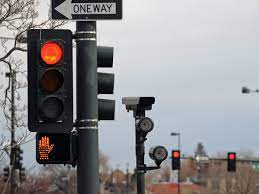red: (27, 29, 72, 131), (227, 152, 236, 172), (172, 150, 180, 170)
